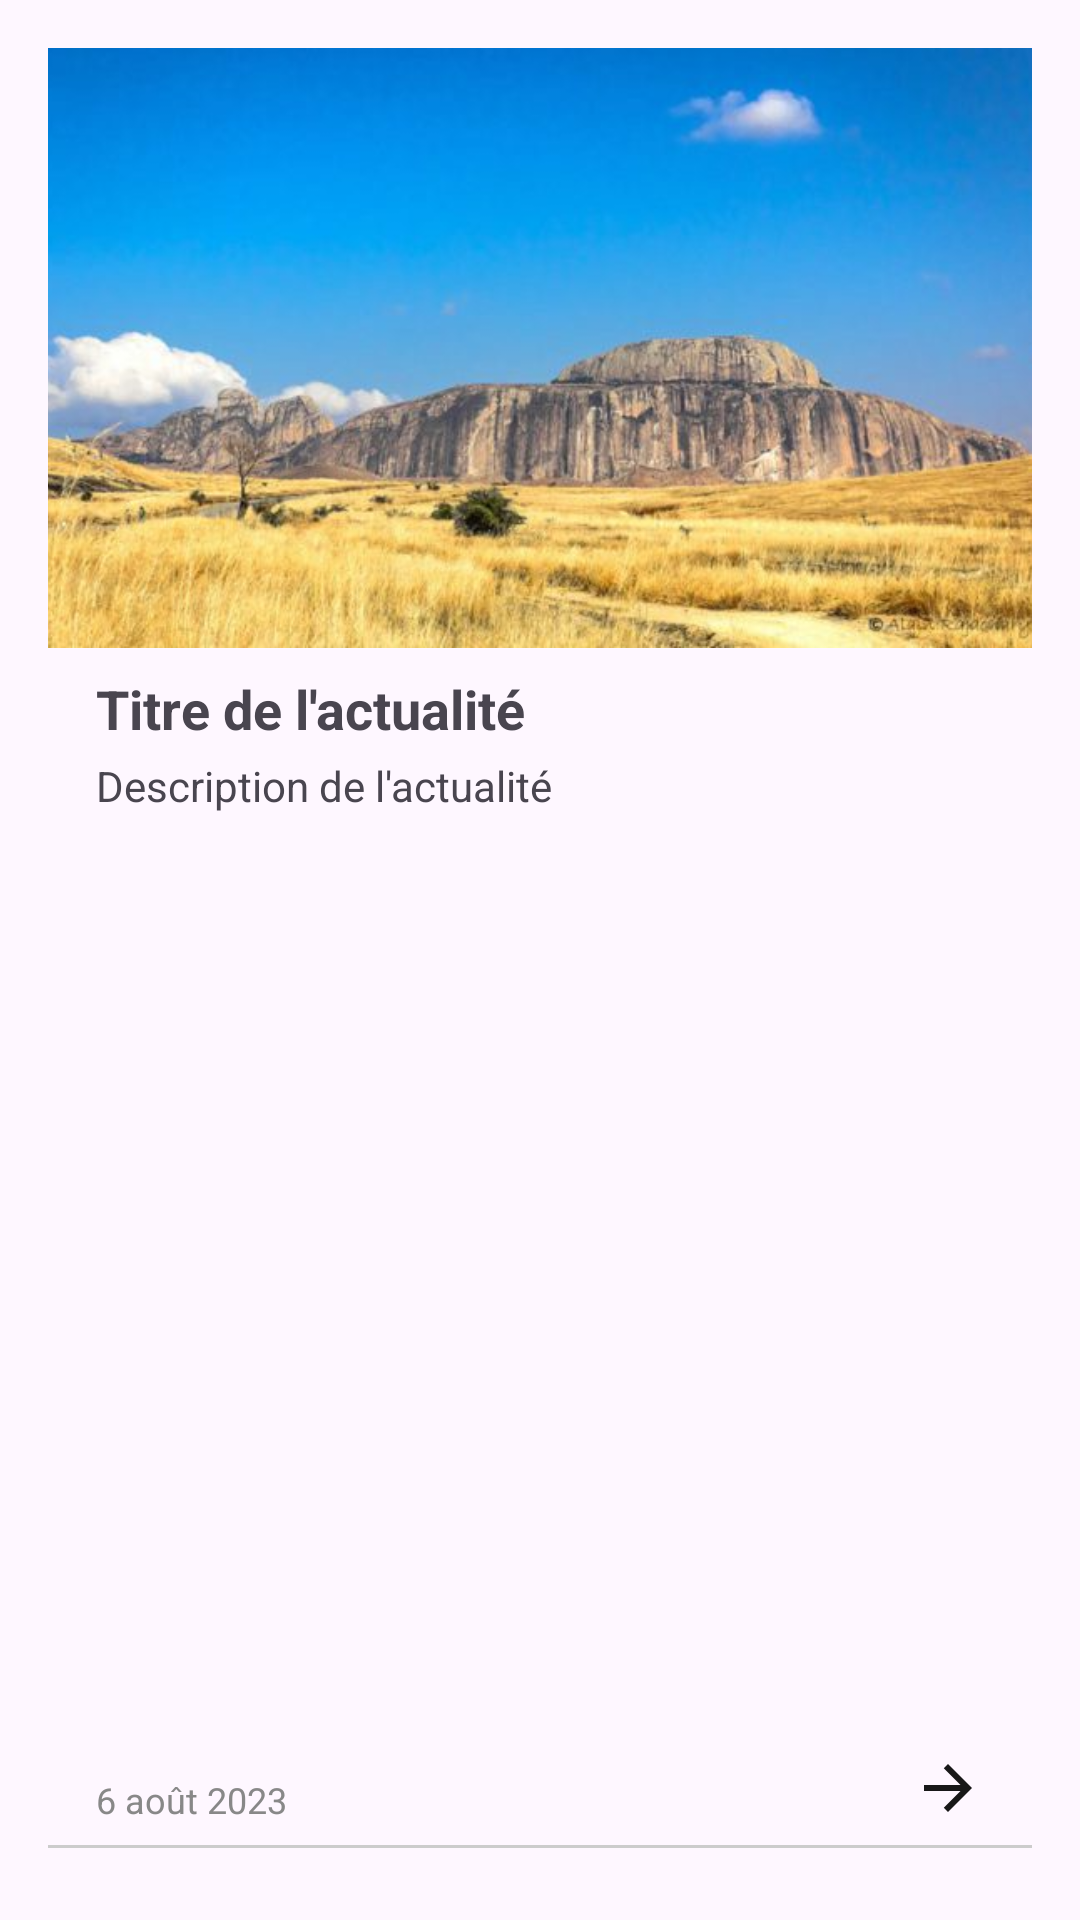

Icons on this 1080 × 1920 Android screen, each with the point to tap as (x=x, y=y):
arrow forward: (x=948, y=1788)
